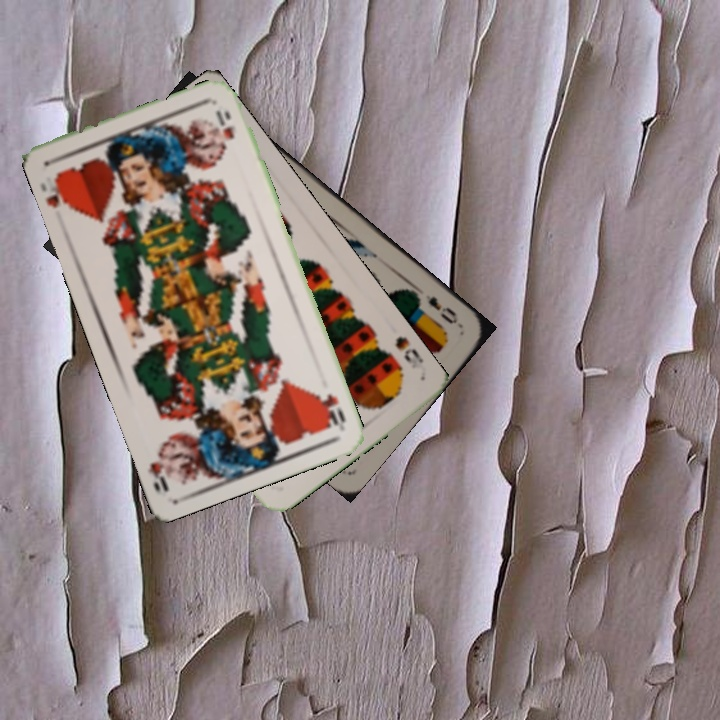EO: (412, 290, 461, 327)
HO: (42, 169, 75, 212), (314, 389, 348, 430)
S8: (390, 332, 427, 377)
